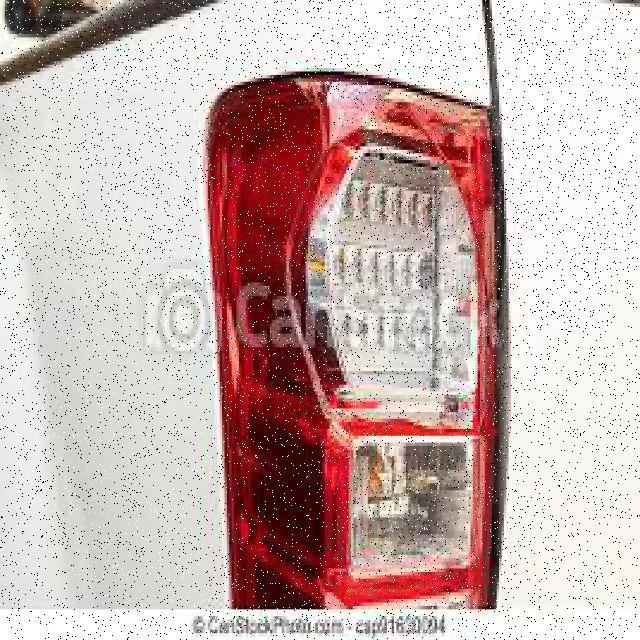Taillight-Damage: (196, 61, 500, 602)
